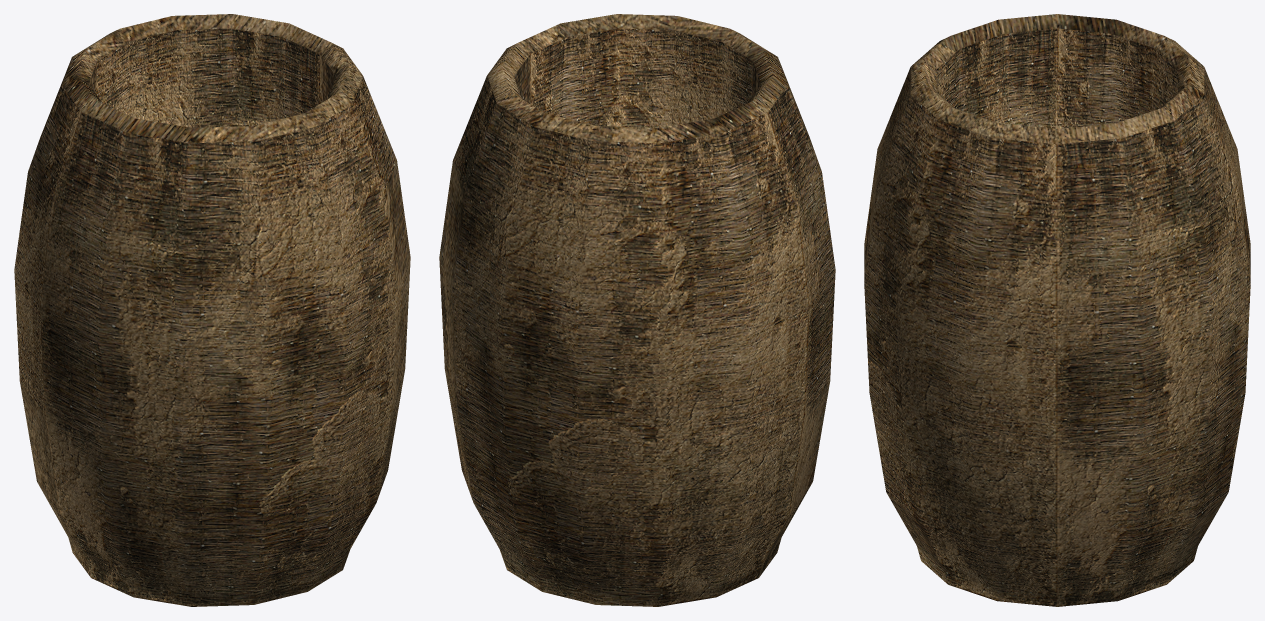
Rendered from crock6.obj.
The picture shows the model from 3 angles, left to right: view 1: azimuth 30°, elevation 25°; view 2: azimuth 150°, elevation 25°; view 3: azimuth 270°, elevation 25°; orthographic projection.
Parts seen in each view (by area): view 1: crock6.obj; view 2: crock6.obj; view 3: crock6.obj.
Boxes of the visible parts, bbox=[...] form: crock6.obj: bbox=[14, 14, 410, 606]; crock6.obj: bbox=[439, 14, 835, 606]; crock6.obj: bbox=[864, 14, 1250, 606].
Bounding box in the file's own units: 9.21 × 12.2 × 8.98.
1 material, 1 textured.
